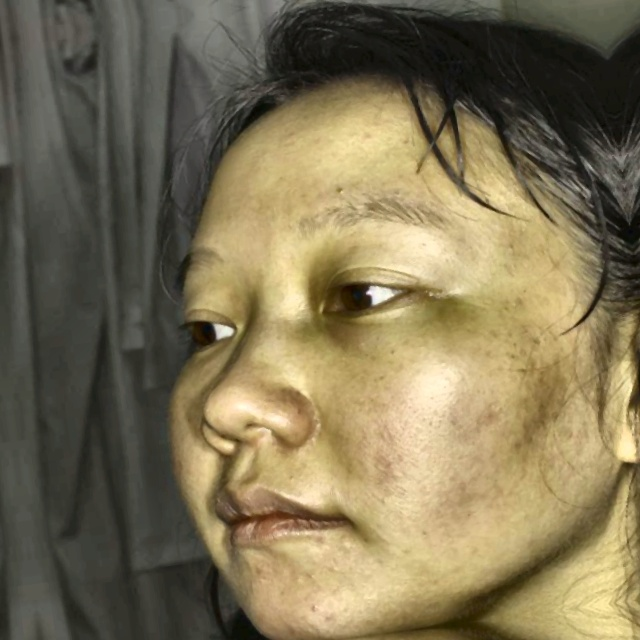comedone: (253, 600, 285, 634)
